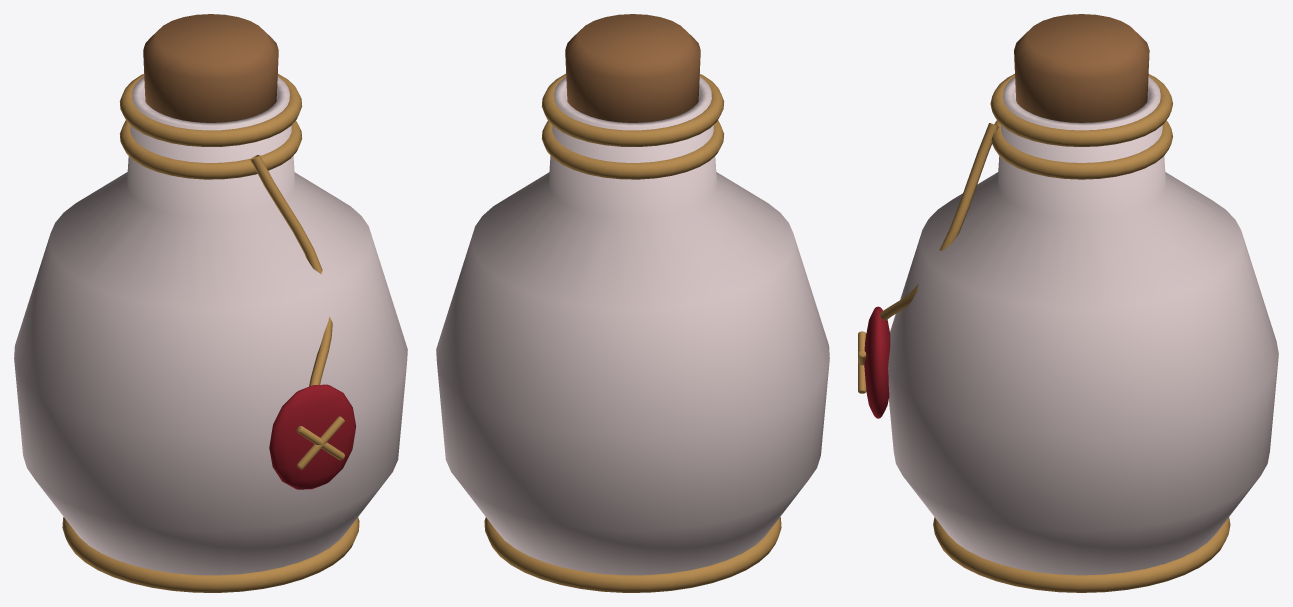
Rendered from Potion_Red.glb.
3 renders of one model, left to right at view 1: azimuth 30°, elevation 25°; view 2: azimuth 150°, elevation 25°; view 3: azimuth 270°, elevation 25°, orthographic.
Parts seen in each view (by area): view 1: Thick_Walled_Red_Bottle, Cork_Stopper, Wax_Seal, Base_Metal_Trim, Neck_Brass_Ring.001, Neck_Brass_Ring, Seal_Cord, Seal_Rune; view 2: Thick_Walled_Red_Bottle, Cork_Stopper, Base_Metal_Trim, Neck_Brass_Ring.001, Neck_Brass_Ring; view 3: Thick_Walled_Red_Bottle, Cork_Stopper, Base_Metal_Trim, Neck_Brass_Ring.001, Neck_Brass_Ring, Wax_Seal, Seal_Cord.
Boxes of the visible parts, x1,y1,x2,y2 form: Thick_Walled_Red_Bottle: (14, 77, 407, 575); Cork_Stopper: (143, 14, 278, 122); Wax_Seal: (269, 384, 356, 489); Base_Metal_Trim: (62, 517, 359, 592); Neck_Brass_Ring.001: (119, 73, 302, 146); Neck_Brass_Ring: (120, 120, 302, 179); Seal_Cord: (250, 155, 332, 386); Seal_Rune: (297, 416, 344, 469); Thick_Walled_Red_Bottle: (436, 77, 829, 575); Cork_Stopper: (565, 14, 700, 122); Base_Metal_Trim: (484, 517, 781, 592); Neck_Brass_Ring.001: (541, 73, 724, 146); Neck_Brass_Ring: (541, 120, 723, 179); Thick_Walled_Red_Bottle: (888, 76, 1278, 575); Cork_Stopper: (1014, 14, 1149, 122); Base_Metal_Trim: (933, 517, 1230, 592); Neck_Brass_Ring.001: (990, 74, 1172, 146); Neck_Brass_Ring: (991, 120, 1172, 179); Wax_Seal: (864, 306, 890, 418); Seal_Cord: (879, 123, 998, 321).
Size of the model in its own units: 0.22 by 0.31 by 0.2348.
